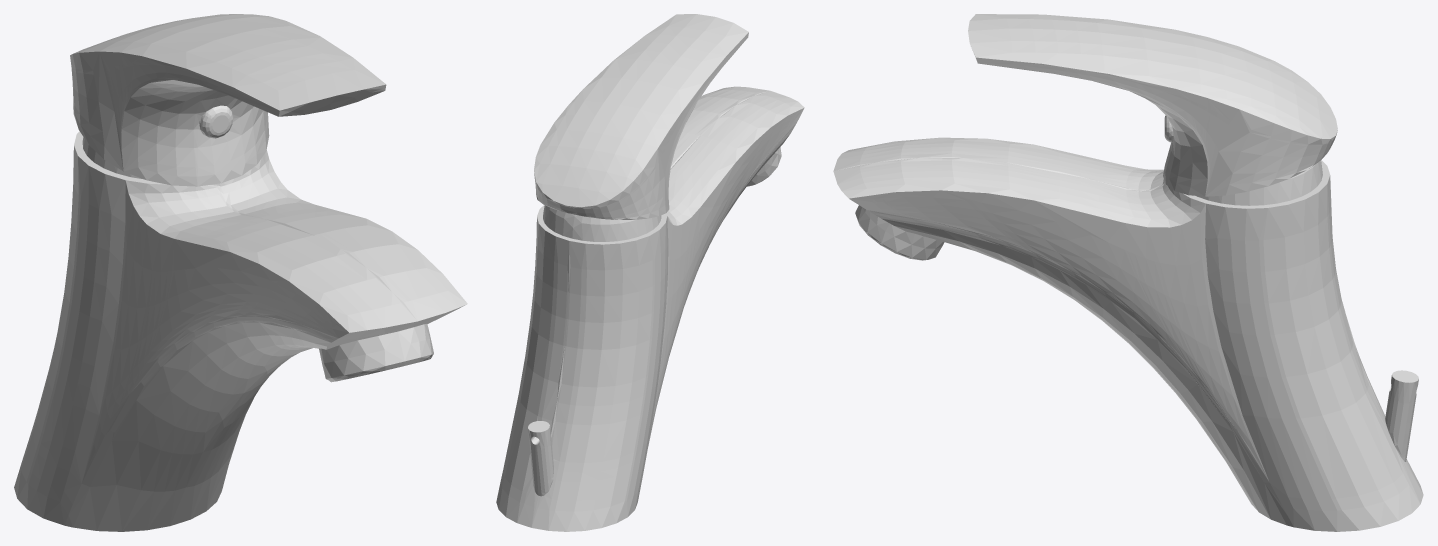
Rendered from AEC_49839.glb.
3 renders of one model, left to right at view 1: azimuth 30°, elevation 25°; view 2: azimuth 150°, elevation 25°; view 3: azimuth 270°, elevation 25°, orthographic. The views are drawn at different scales.
Visible parts, largest first — view 1: 0; view 2: 0; view 3: 0.
Part boxes in pixels (<box>): 0: <box>14,14,467,531</box>; 0: <box>496,14,804,531</box>; 0: <box>833,14,1423,531</box>.
Size of the model in its own units: 0.0466 by 0.1369 by 0.1574.
Materials: 1 (1 with a texture image).
